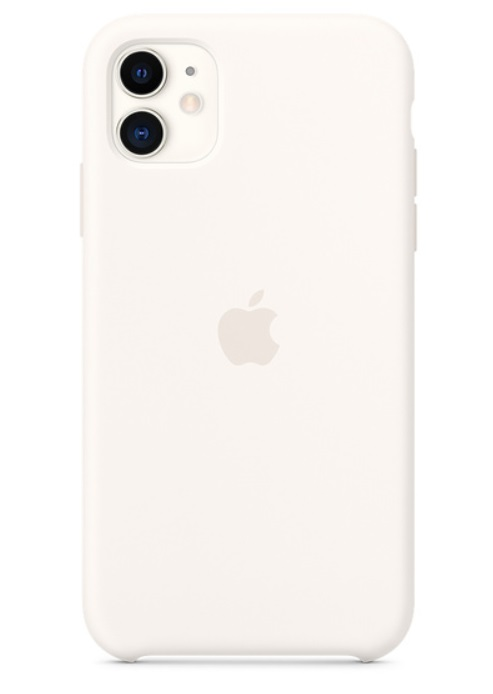White: (76, 10, 421, 663)
